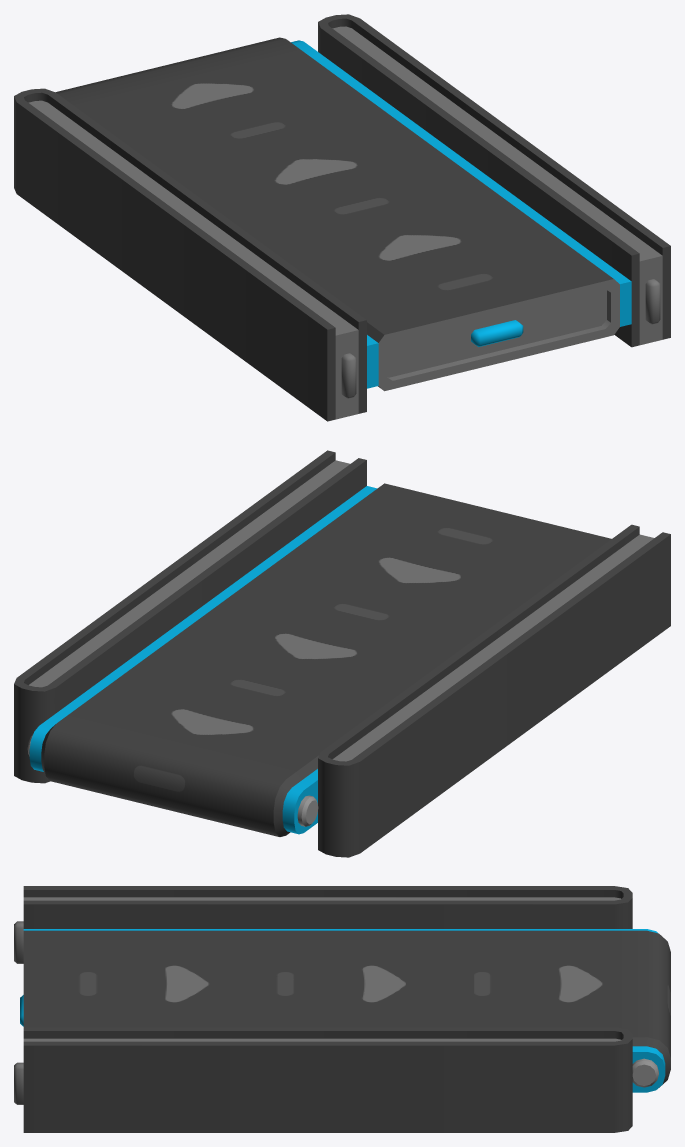
File: Conveyor_Belt_S01_Cap_E.fbx
3 renders of one model, top to bottom at view 1: azimuth 30°, elevation 25°; view 2: azimuth 150°, elevation 25°; view 3: azimuth 270°, elevation 25°, orthographic. The views are drawn at different scales.
Parts seen in each view (by area): view 1: Conveyor_Belt_S01_Cap_E; view 2: Conveyor_Belt_S01_Cap_E; view 3: Conveyor_Belt_S01_Cap_E.
Part boxes in pixels (x1,y1,x2,y2): Conveyor_Belt_S01_Cap_E: (14, 14, 670, 421); Conveyor_Belt_S01_Cap_E: (14, 450, 670, 857); Conveyor_Belt_S01_Cap_E: (14, 886, 670, 1132).
Size of the model in its own units: 128 by 32.6 by 222.
